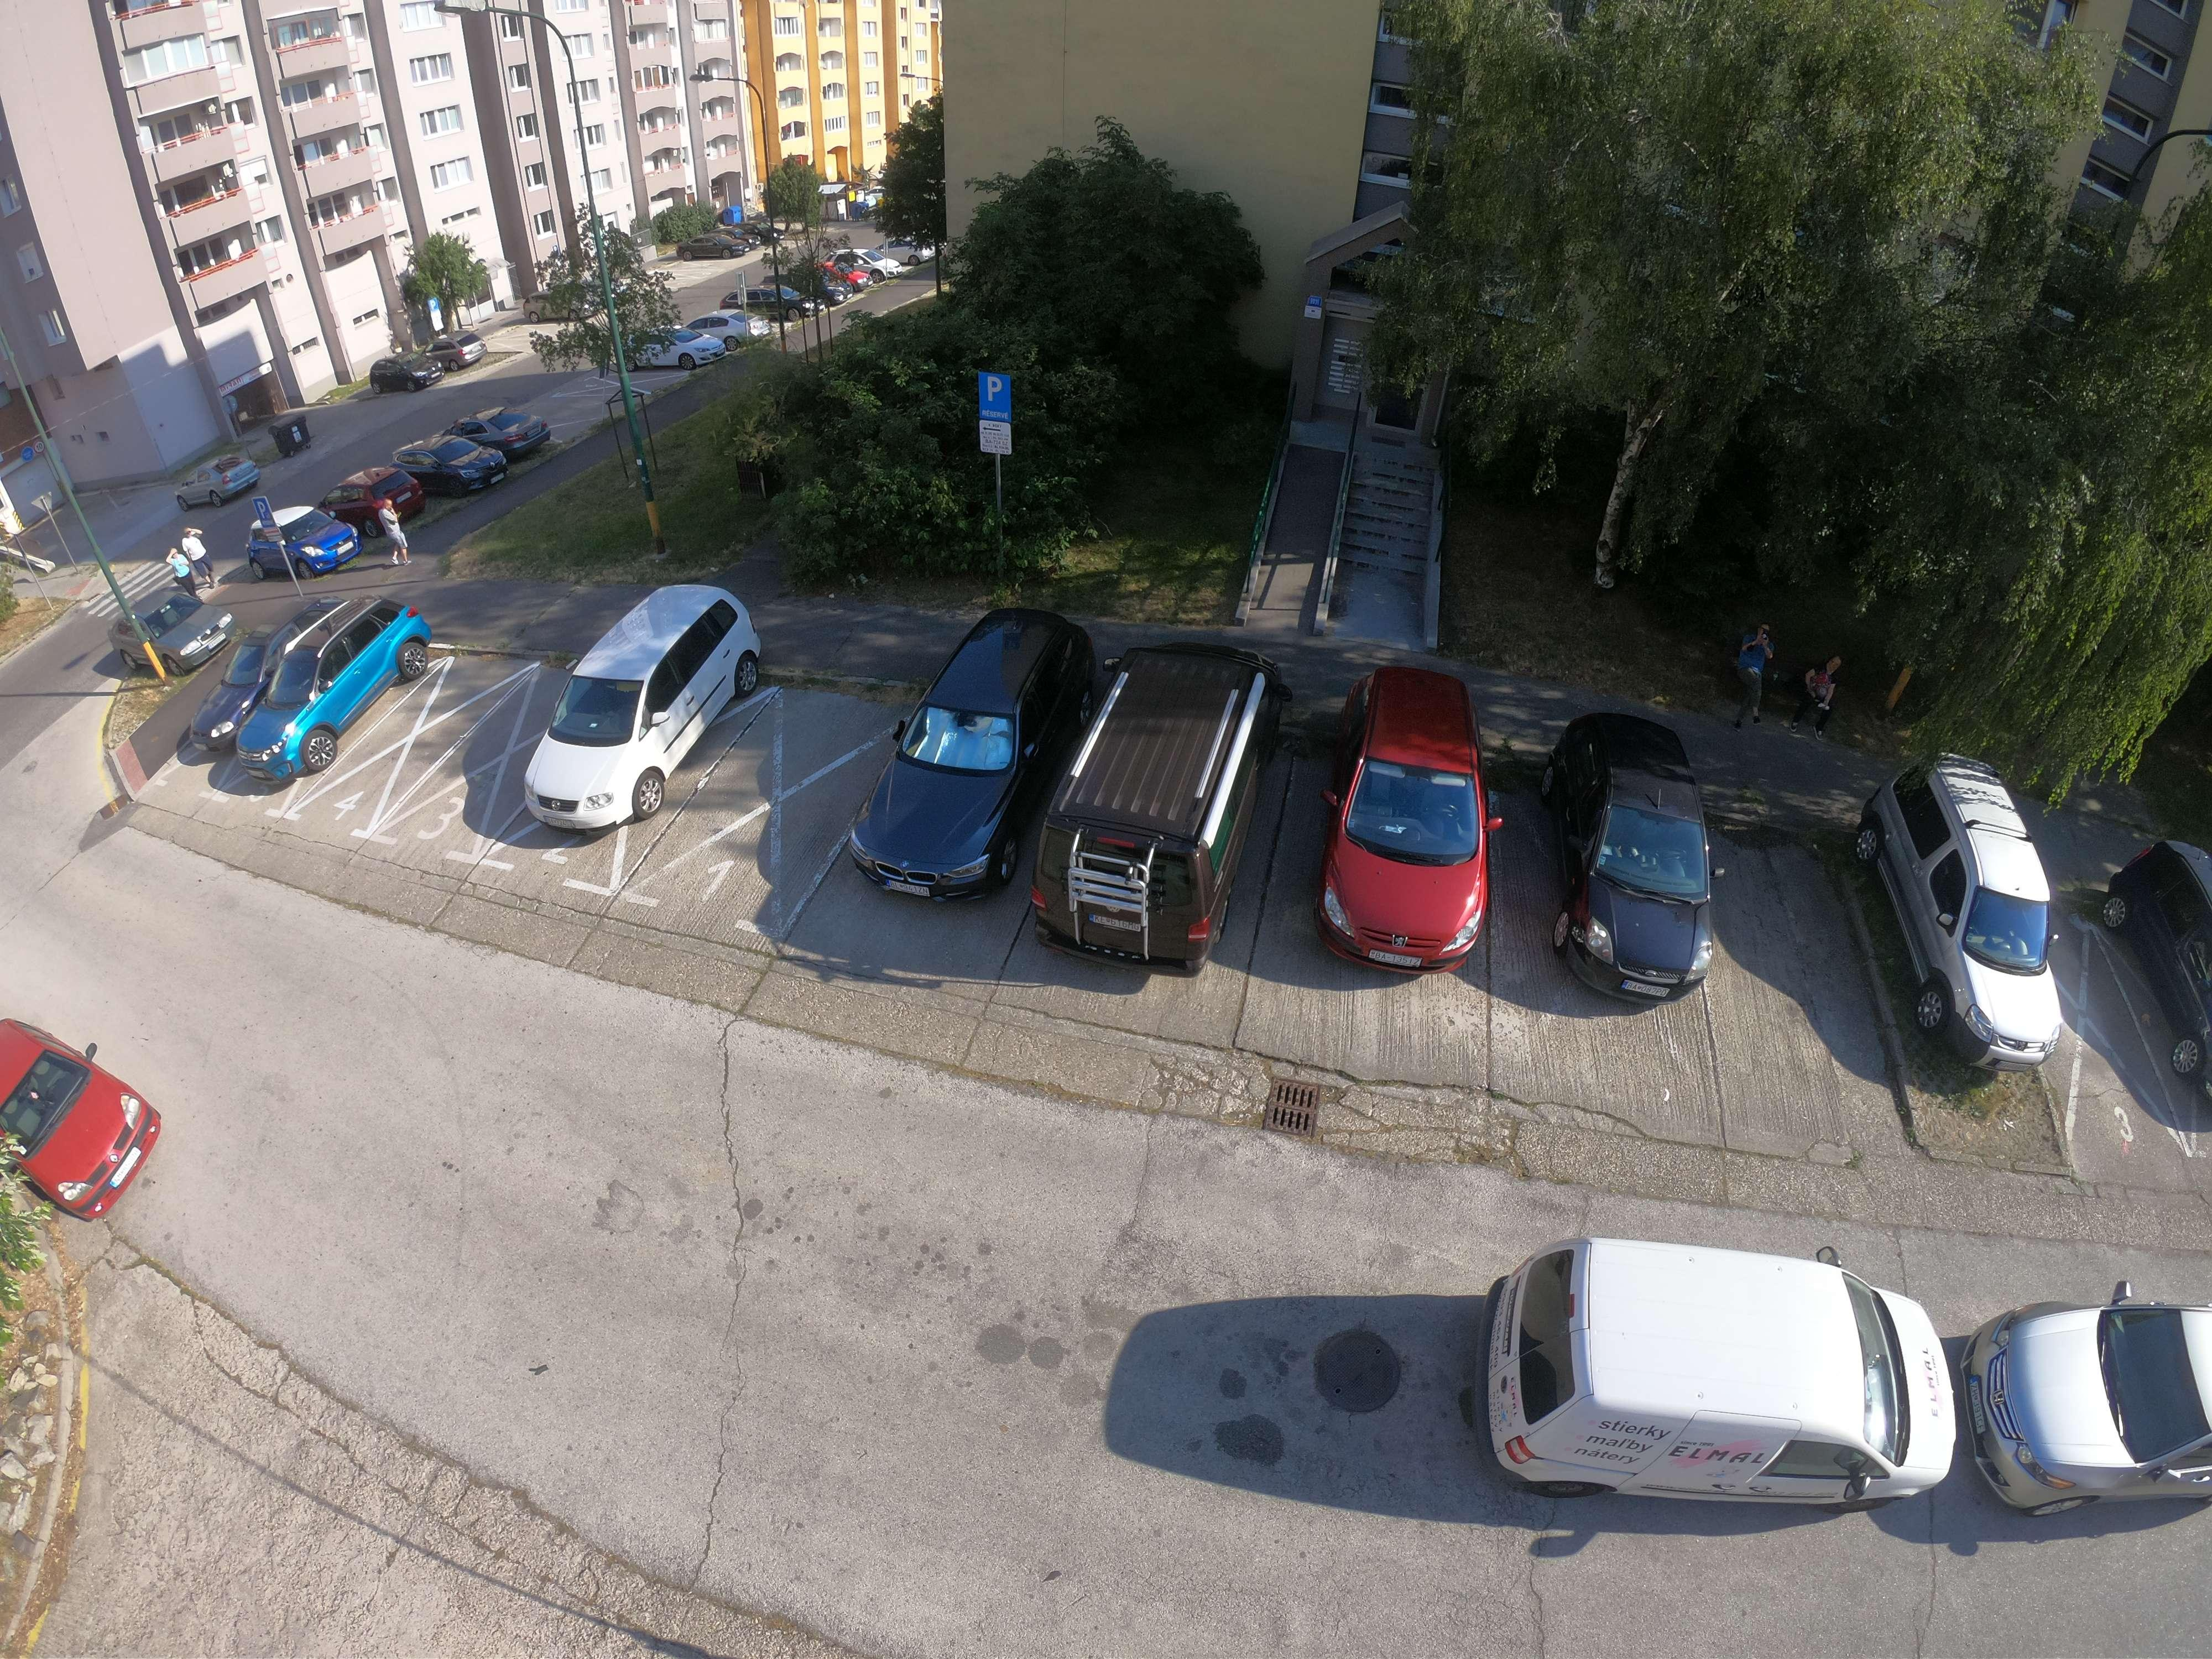empty: (1472, 1239, 1966, 1514), (1035, 622, 1285, 971), (845, 610, 1092, 910), (1881, 770, 2104, 1087), (1292, 660, 1519, 971), (510, 589, 768, 842), (1538, 708, 1737, 1000), (1968, 1300, 2210, 1514), (207, 592, 439, 793), (2107, 830, 2212, 1134), (9, 1019, 167, 1215), (120, 584, 240, 680), (230, 504, 366, 579), (409, 430, 514, 498)
occupied: (921, 1222, 1449, 1462), (540, 1140, 909, 1335), (2020, 965, 2168, 1108), (737, 744, 880, 854), (1738, 908, 1869, 1012), (411, 701, 528, 810)
